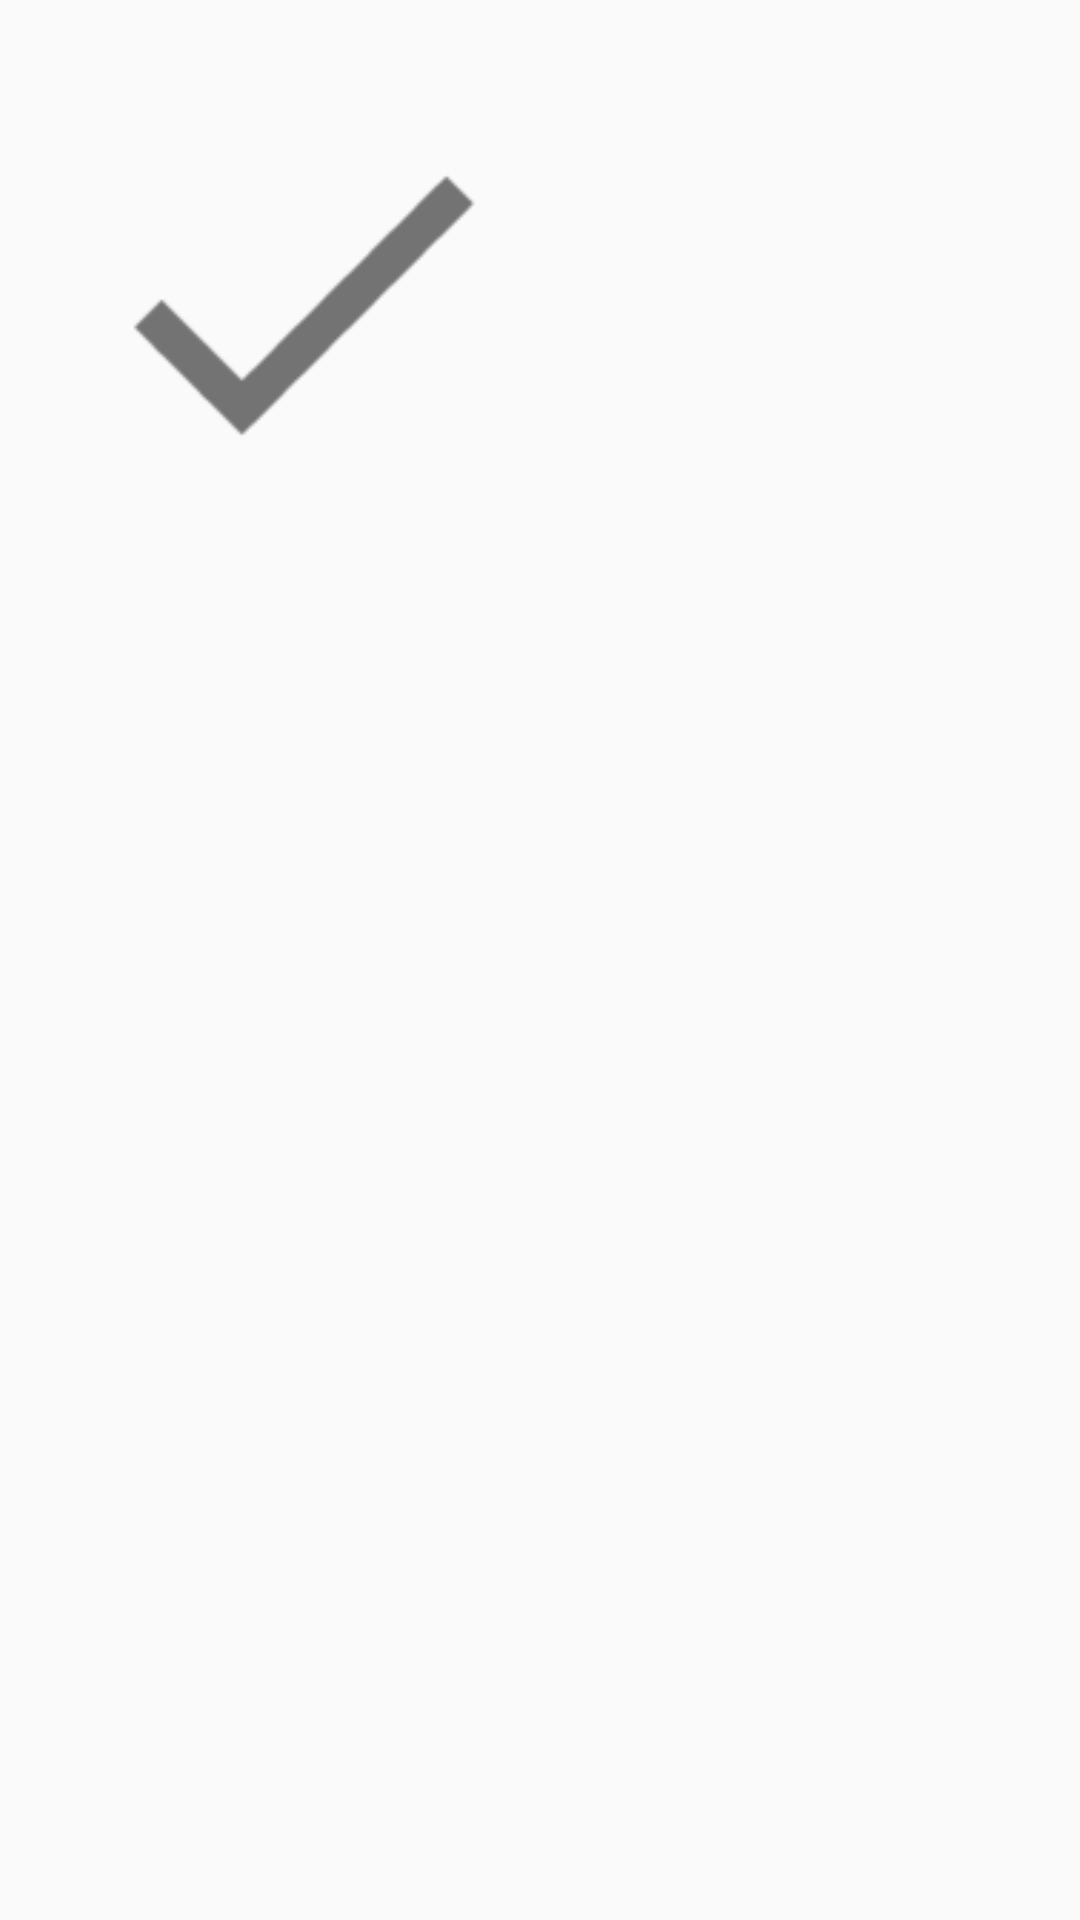

Where icons sit on this 1080 × 1920 app screen, as bbox(x1, y1, x2, y2):
check: bbox(134, 176, 474, 435)
